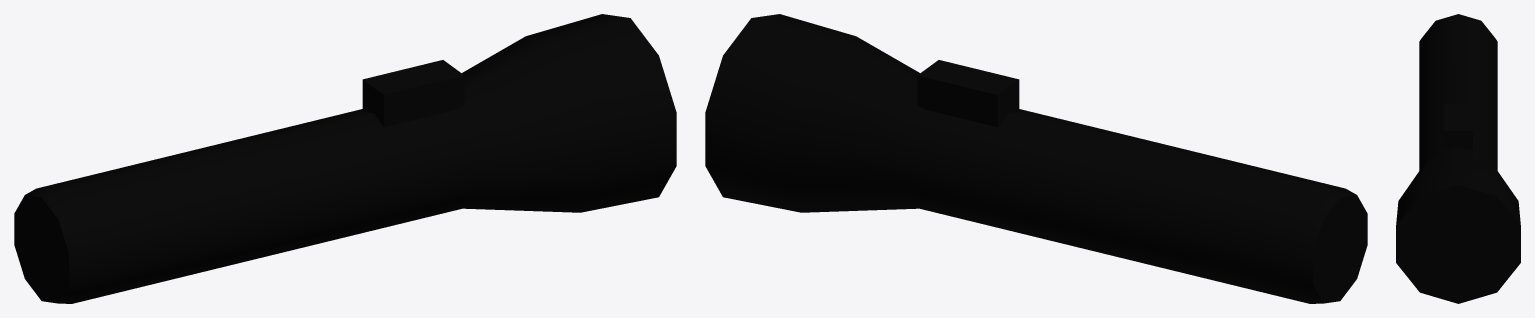
The model's file is flashlight.glb.
3 views of the same model, side by side, from view 1: azimuth 30°, elevation 25°; view 2: azimuth 150°, elevation 25°; view 3: azimuth 270°, elevation 25° (orthographic). The views are drawn at different scales.
Visible parts, largest first — view 1: flashlight; view 2: flashlight; view 3: flashlight.
Boxes of the visible parts, bbox=[...] form: flashlight: bbox=[14, 14, 676, 303]; flashlight: bbox=[705, 14, 1367, 303]; flashlight: bbox=[1396, 14, 1520, 303].
Bounding box in the file's own units: 0.19 × 0.054 × 0.0514.
